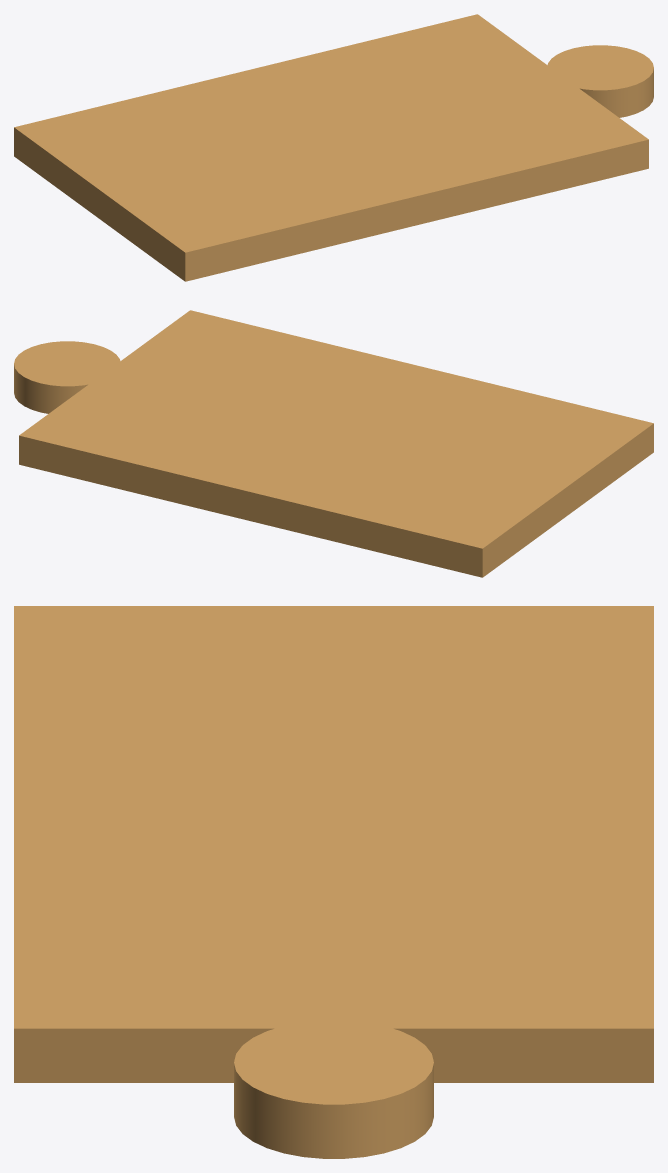
File: home_tool_board.glb
3 renders of one model, top to bottom at view 1: azimuth 30°, elevation 25°; view 2: azimuth 150°, elevation 25°; view 3: azimuth 270°, elevation 25°, orthographic. The views are drawn at different scales.
Bounding box in the file's own units: 0.5897 × 0.03 × 0.32.
